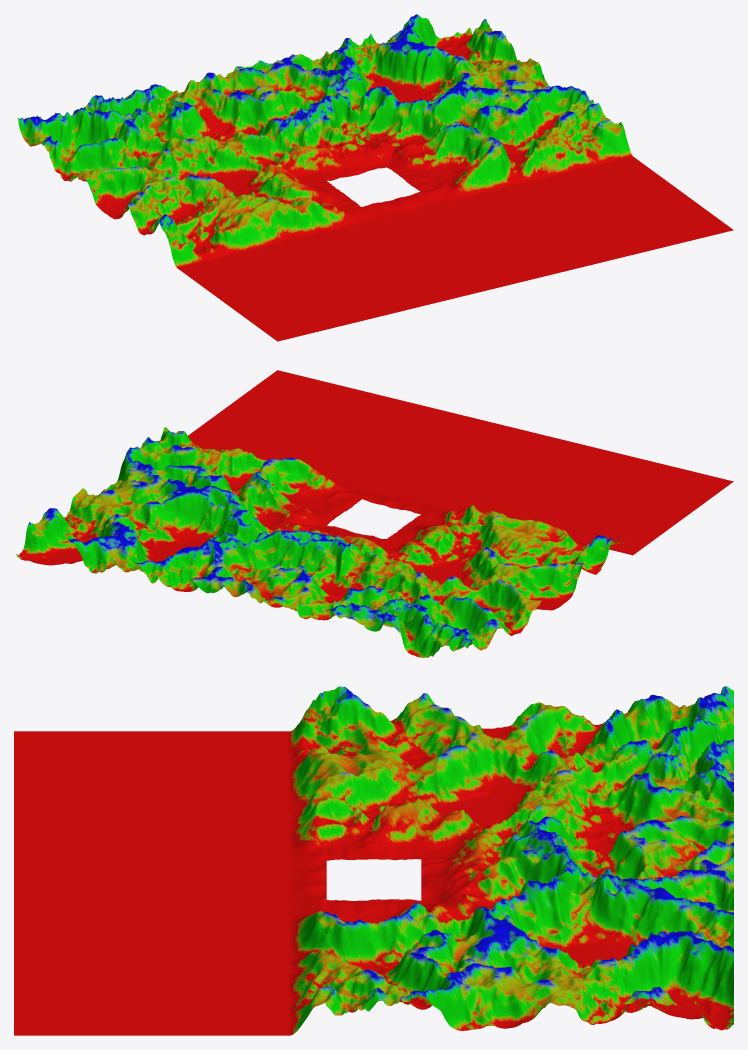
Rendered from far_ranges.glb.
The picture shows the model from 3 angles, top to bottom: view 1: azimuth 30°, elevation 25°; view 2: azimuth 150°, elevation 25°; view 3: azimuth 270°, elevation 25°; orthographic projection. The views are drawn at different scales.
Parts seen in each view (by area): view 1: far_ranges; view 2: far_ranges; view 3: far_ranges.
Boxes of the visible parts, bbox=[...] form: far_ranges: bbox=[17, 14, 733, 341]; far_ranges: bbox=[16, 370, 733, 657]; far_ranges: bbox=[14, 686, 733, 1035].
Bounding box in the file's own units: 16000 × 1250 × 16000.
